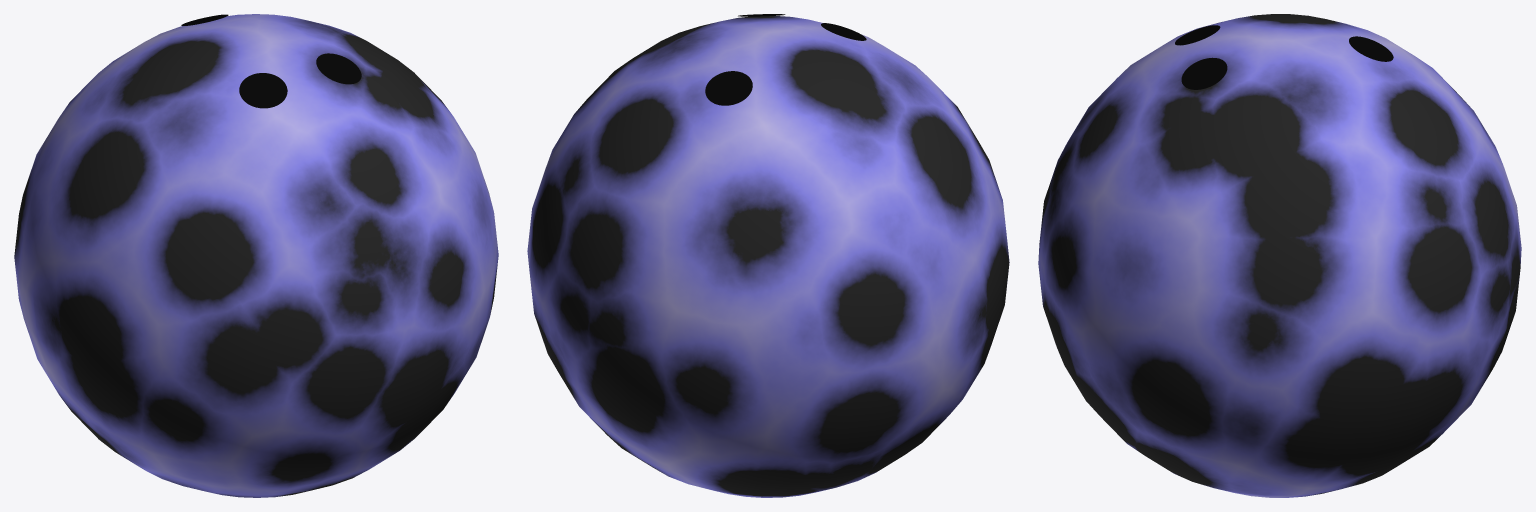
The model's file is ball_purpleWeb.gltf.
The picture shows the model from 3 angles, left to right: view 1: azimuth 30°, elevation 25°; view 2: azimuth 150°, elevation 25°; view 3: azimuth 270°, elevation 25°; orthographic projection.
Visible parts, largest first — view 1: purpleWeb; view 2: purpleWeb; view 3: purpleWeb.
Part boxes in pixels (x1,y1,x2,y2): purpleWeb: [14, 14, 498, 497]; purpleWeb: [527, 14, 1009, 497]; purpleWeb: [1038, 14, 1521, 497].
Size of the model in its own units: 0.2493 by 0.25 by 0.2493.
Materials: 2 (1 with a texture image).
